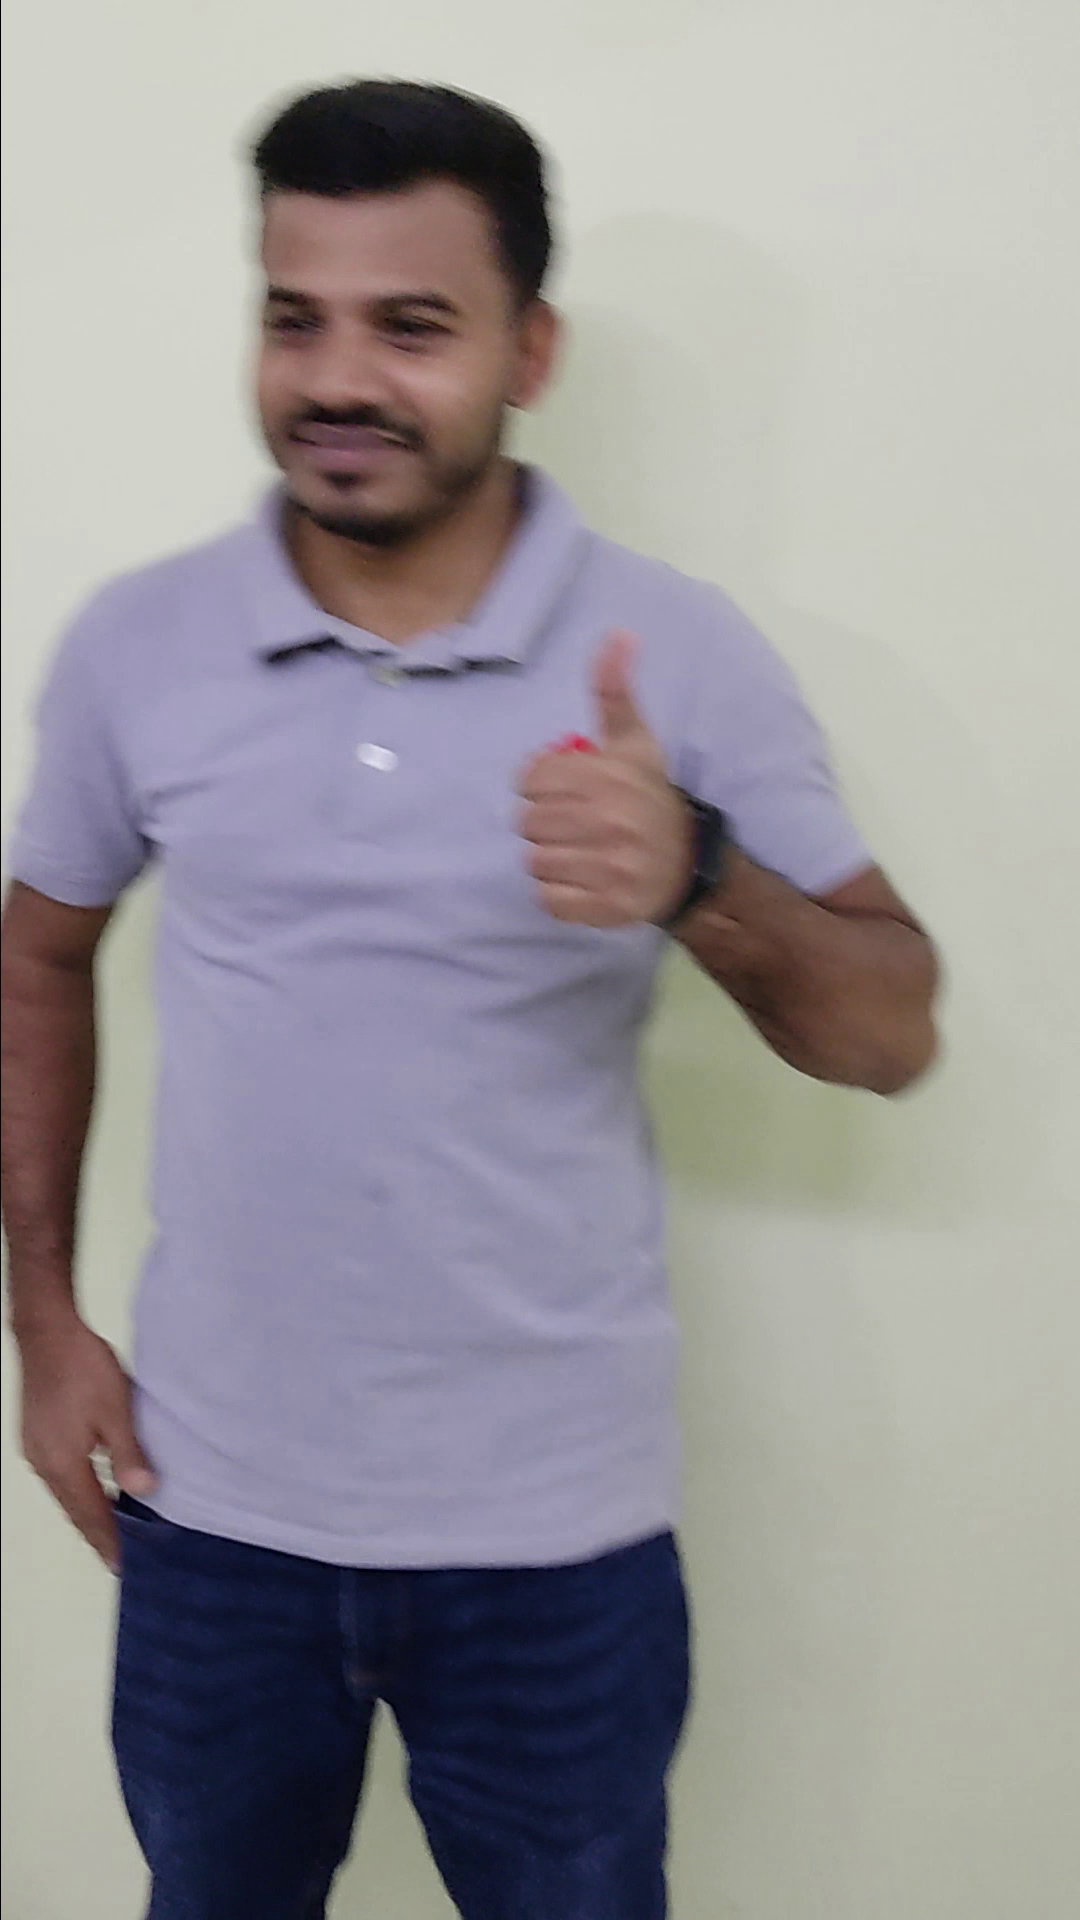Like: (502, 613, 731, 951)
None: (4, 1302, 169, 1584)
